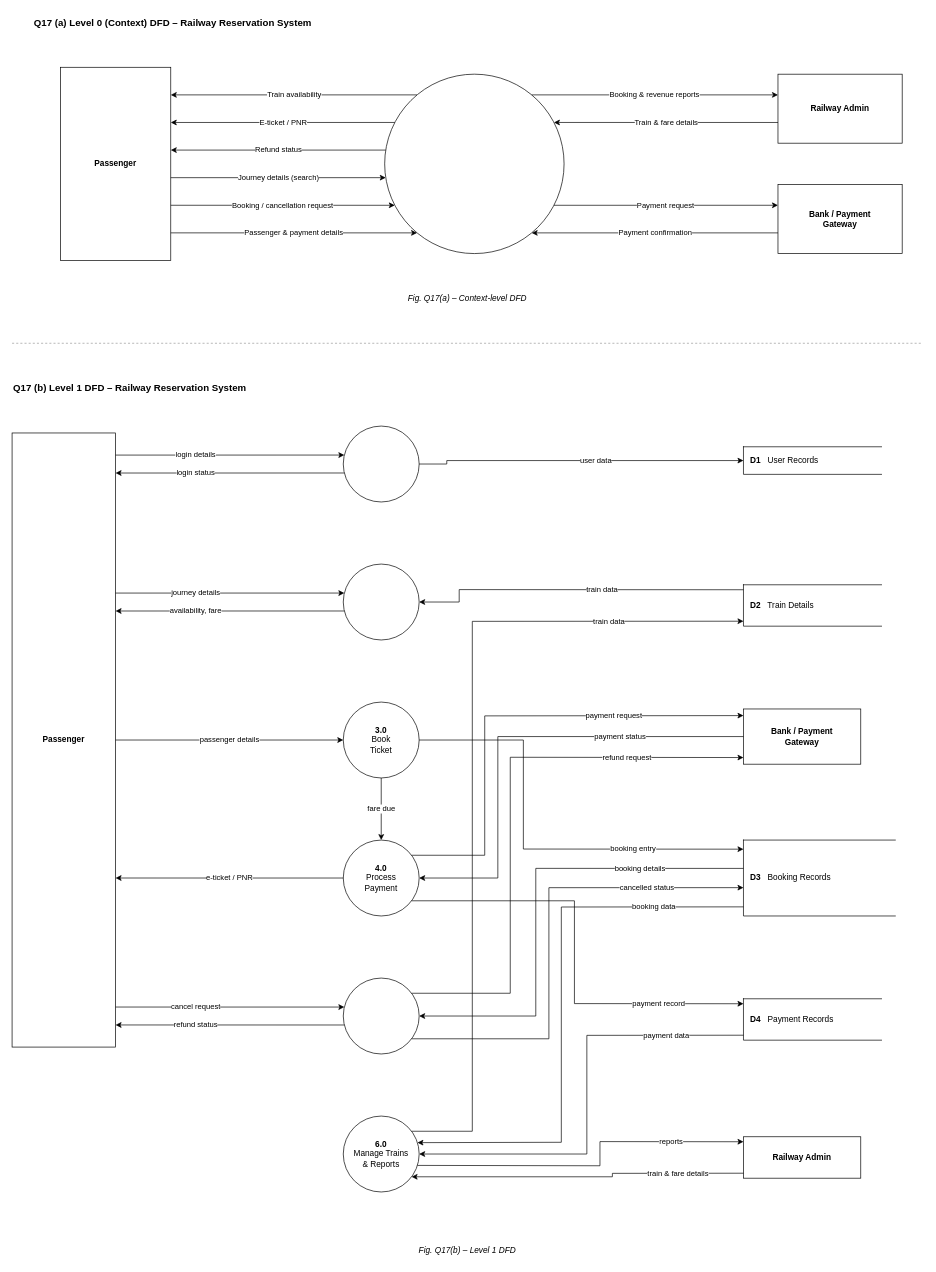
The diagram is 936 pixels wide and 1272 high, and some of its shapes have lost their labels. The shapes that lost their labels are listed below. From the top down, each one's box as (x1, y1, x2, y2) in pixels, then its label:
(384, 73, 564, 254): 0 Railway Reservation System
(343, 425, 419, 502): 1.0 Register / Login
(343, 563, 419, 640): 2.0 Search Trains
(343, 977, 419, 1054): 5.0 Cancel & Refund
